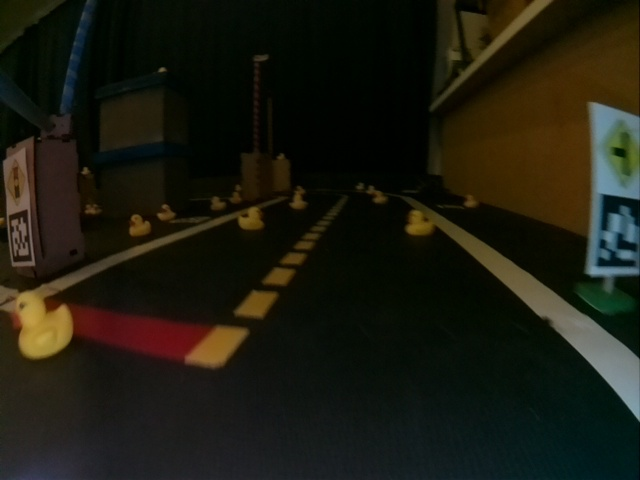Duckie: (13, 293, 75, 360), (406, 210, 434, 237), (238, 208, 265, 229), (129, 215, 152, 235), (158, 204, 176, 221), (291, 196, 307, 209), (211, 197, 225, 210), (464, 196, 479, 208), (373, 191, 387, 203), (230, 192, 240, 203), (276, 153, 285, 162), (367, 186, 376, 194), (90, 205, 97, 213)
Intersection sign: (593, 107, 639, 188)
QR code: (594, 194, 639, 271), (7, 211, 32, 263)
Signal sign: (6, 161, 28, 203)
